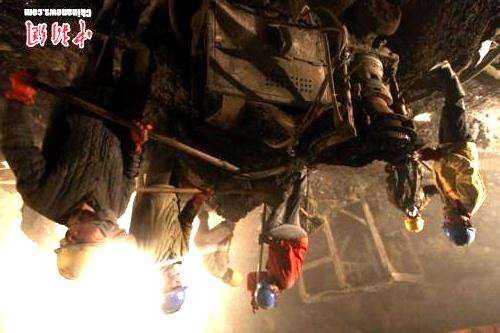helmet: (53, 229, 106, 281), (441, 206, 477, 248), (159, 268, 188, 315), (254, 278, 280, 310), (404, 208, 425, 234), (222, 267, 243, 288)
